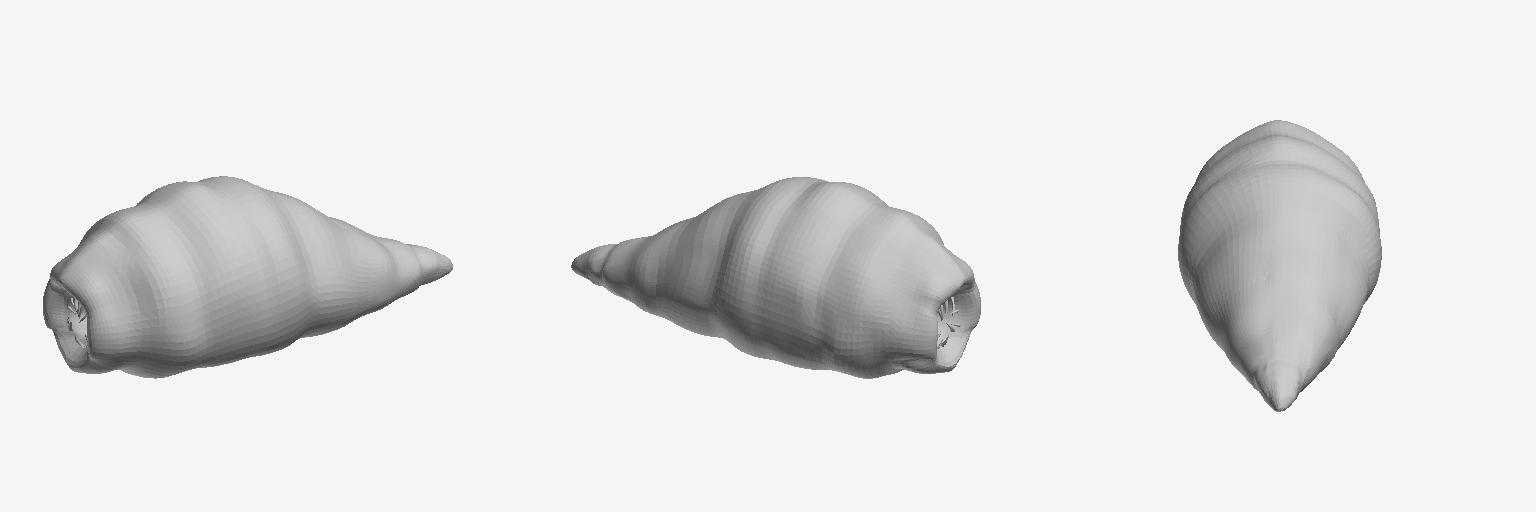
File: Worm.obj
3 renders of one model, left to right at view 1: azimuth 30°, elevation 25°; view 2: azimuth 150°, elevation 25°; view 3: azimuth 270°, elevation 25°, orthographic.
Visible parts, largest first — view 1: worm_Plane; view 2: worm_Plane; view 3: worm_Plane.
Boxes of the visible parts, x1,y1,x2,y2 form: worm_Plane: [43, 176, 452, 378]; worm_Plane: [571, 177, 980, 378]; worm_Plane: [1178, 120, 1381, 411].
Size of the model in its own units: 4.83 by 2 by 2.17.